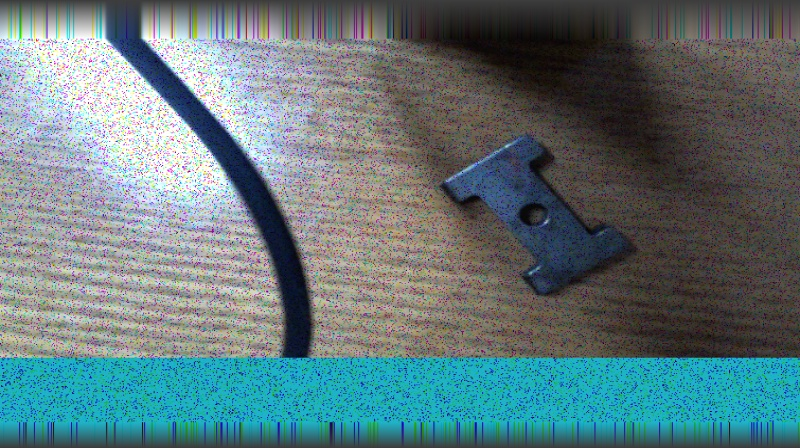O002: (435, 132, 637, 295)
